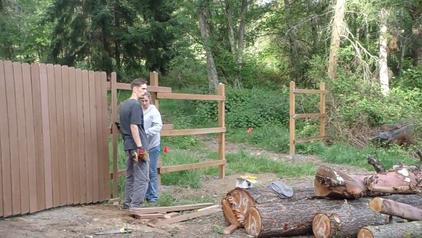stay: (125, 81, 166, 204)
